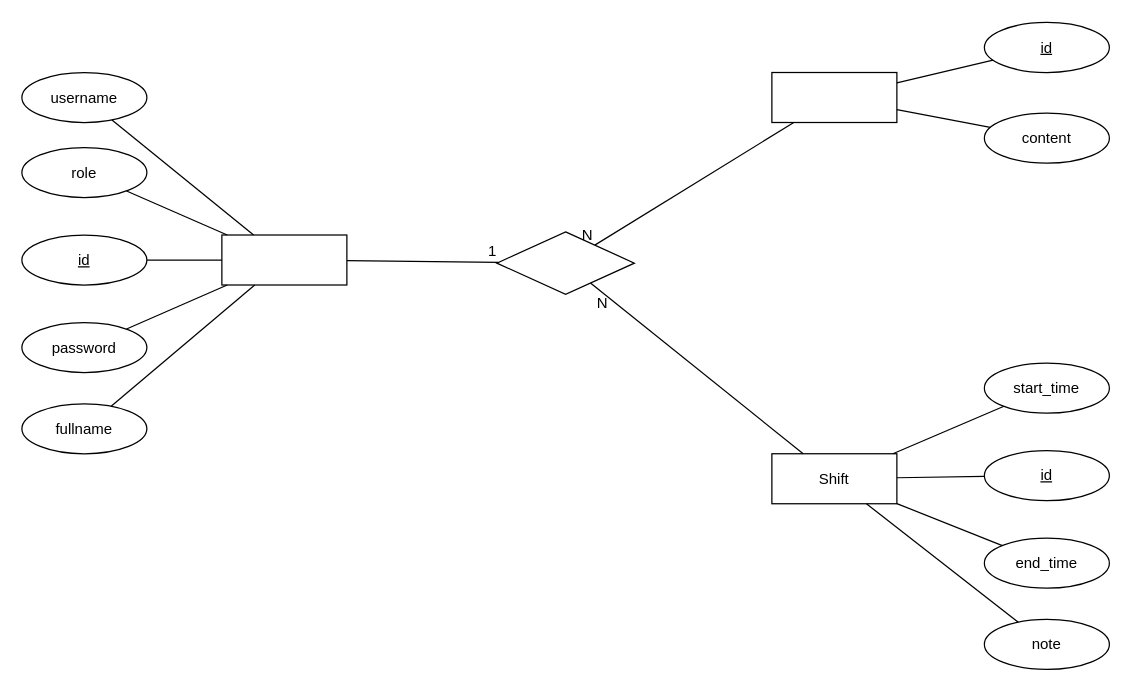
The diagram is 1131 pixels wide and 691 high, and some of its shapes have lost their labels. The shapes that lost their labels are listed below. From the top down, each one's box as (x1, y1, x2, y2) in pixels, then its label:
(771, 71, 897, 122): Log
(221, 234, 347, 285): User
(496, 231, 634, 294): Relationship
